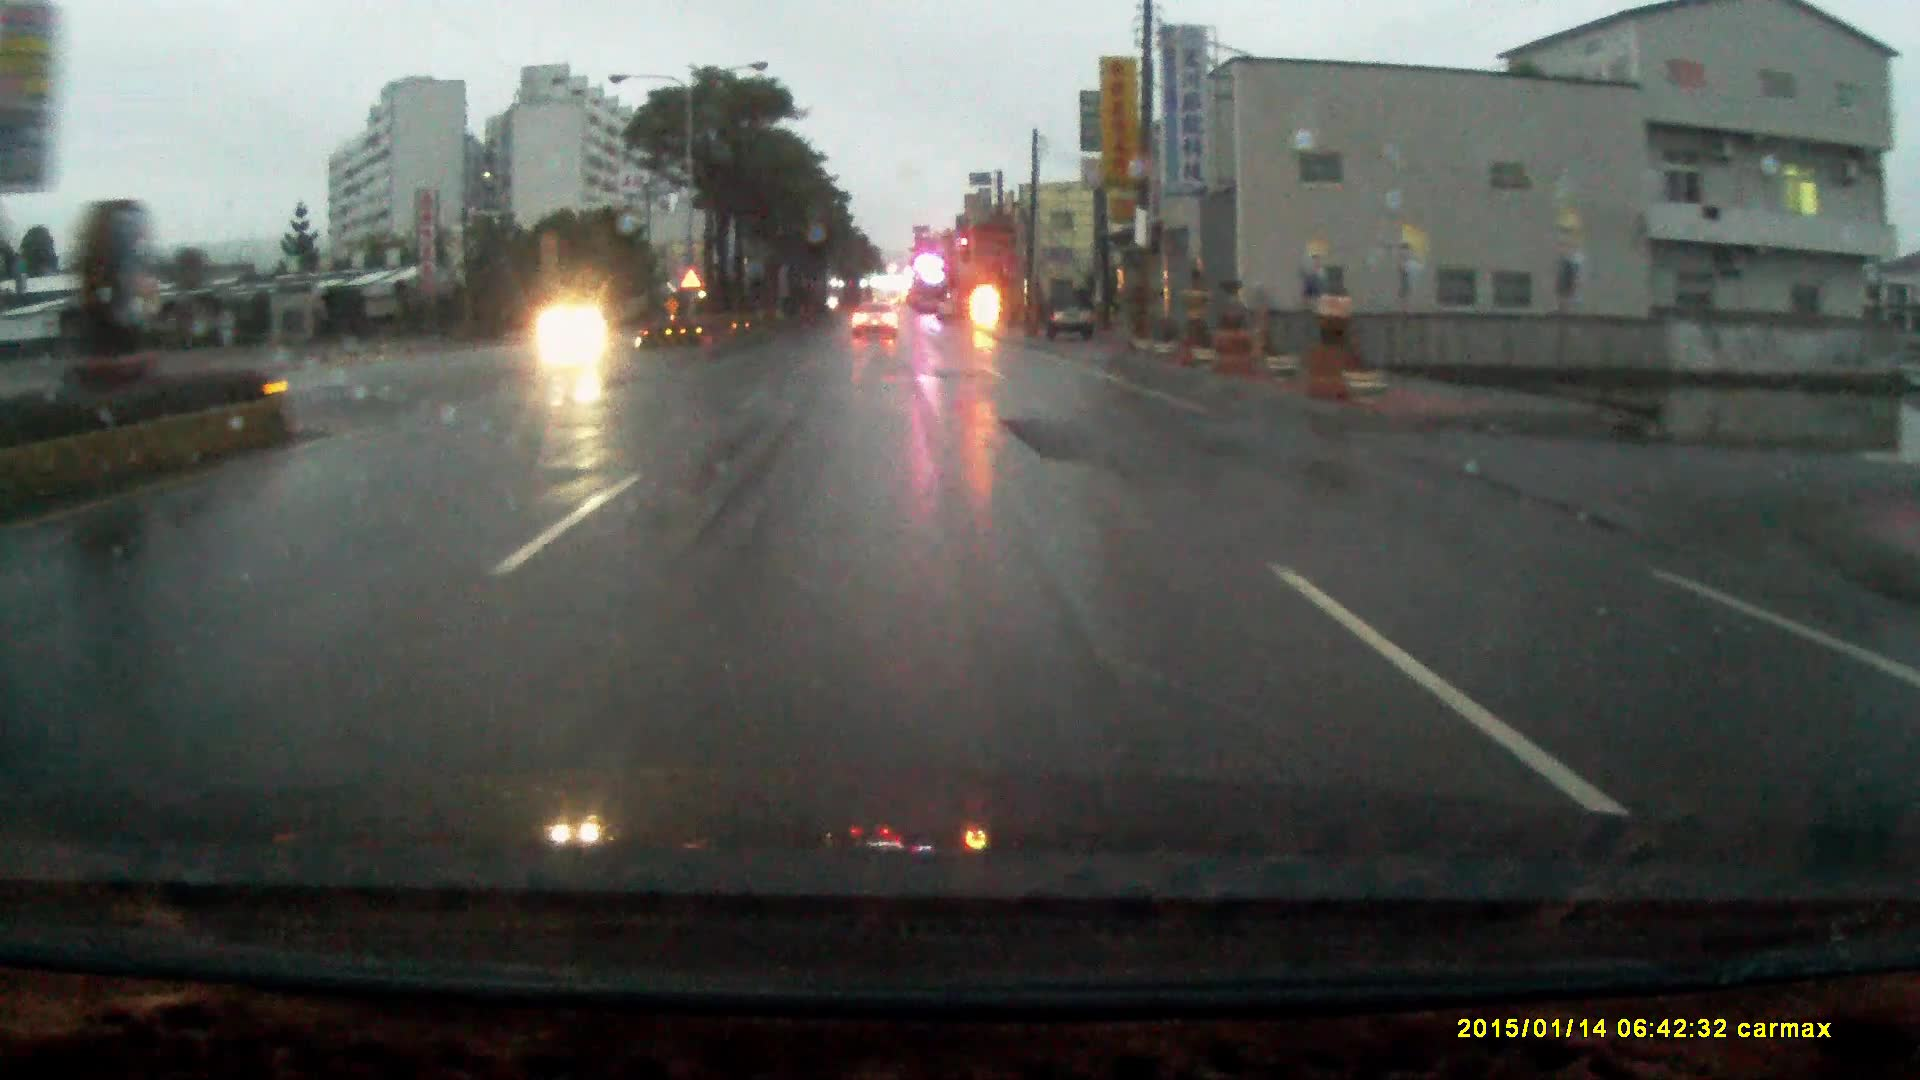vehicle: (1050, 287, 1102, 342), (851, 302, 899, 338)
